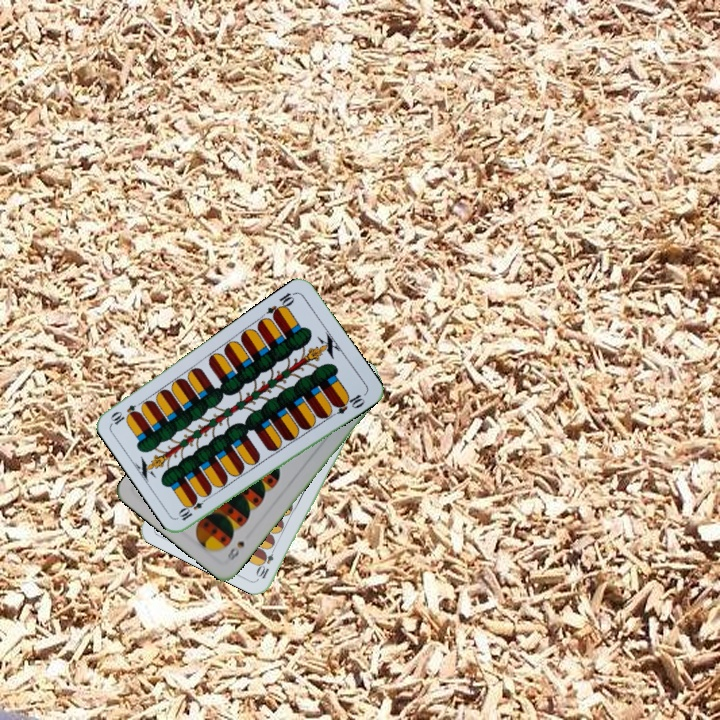E10: (263, 288, 298, 321), (175, 492, 211, 523), (253, 542, 278, 581)
S8: (223, 537, 247, 566)
